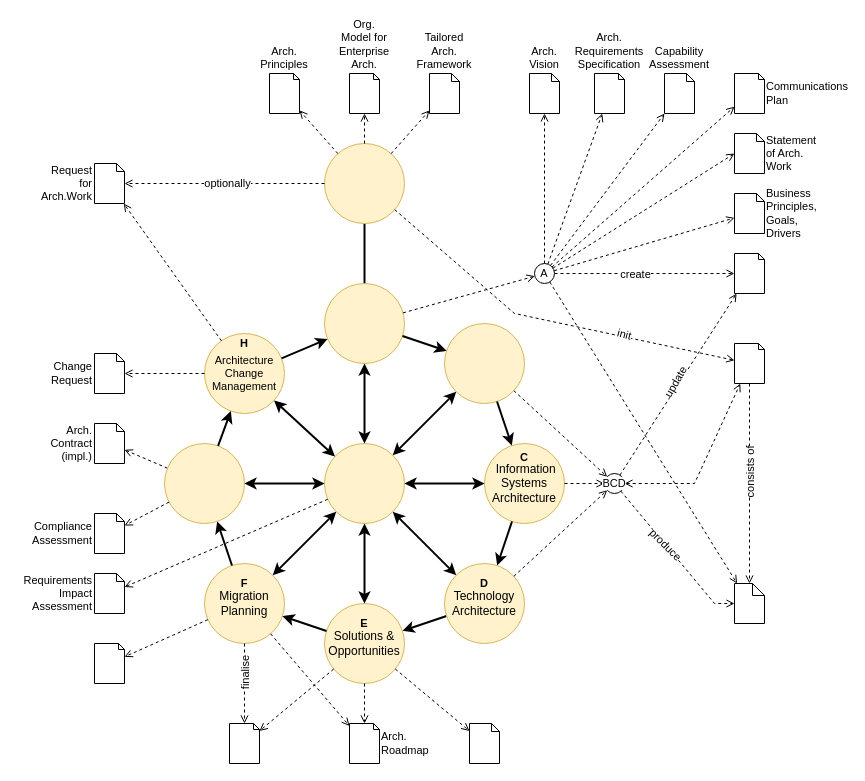
Some shapes in this 865 by 781 pixel diagram are drawn without their labels. The centre of each missing label's shape, as x and y in pixels:
A rchitecture Vision: the point at 364,323
Arch. Building Blocks: the point at 749,603
Arch. Definition Document: the point at 749,273
Arch. Repository: the point at 749,363
B usiness Architecture: the point at 484,363
Imple-mentation G overnance: the point at 204,483
Implementation & Migration Plan: the point at 244,743
Implementation Governance Model: the point at 109,663
Preliminary Phase: the point at 364,183
Requirements Management: the point at 364,483
Solution Building Blocks: the point at 484,743
